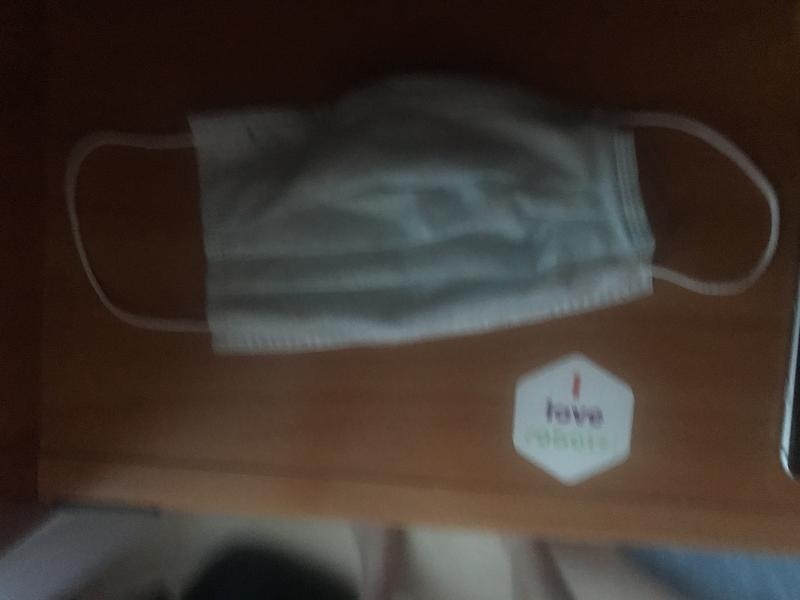medical_mask: (64, 79, 780, 353)
